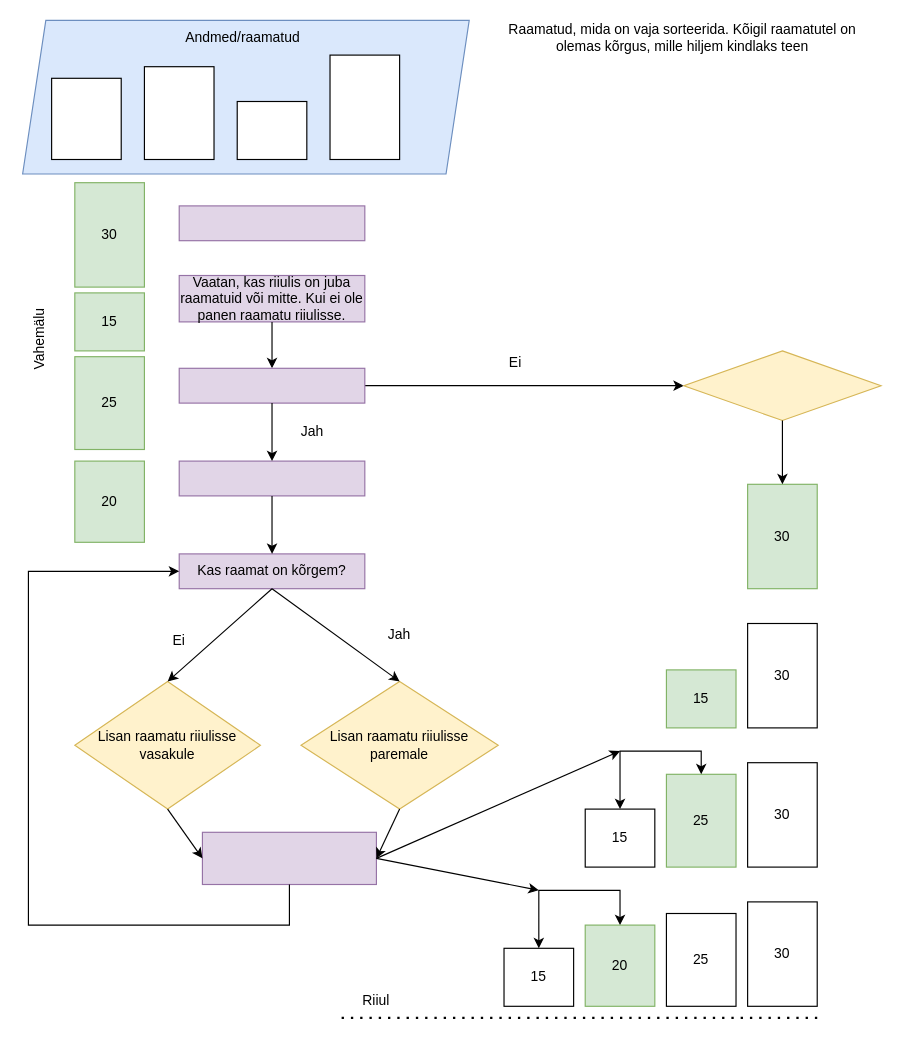
The diagram is 901 pixels wide and 1041 high, and some of its shapes have lost their labels. Here are the shapes that lost their labels. From the top down, the centre of each, then its label:
[271,223]: Võtan ühe raamatu ja jätan selle kõrguse meelde
[271,385]: Raamat lisatud?
[782,385]: Lisan raamatu riiulisse
[271,478]: Võrdlen riiulis olevat raamatut
[288,857]: Siin võrdlen uuesti raamatuid omavahel ja vahetan kohti
